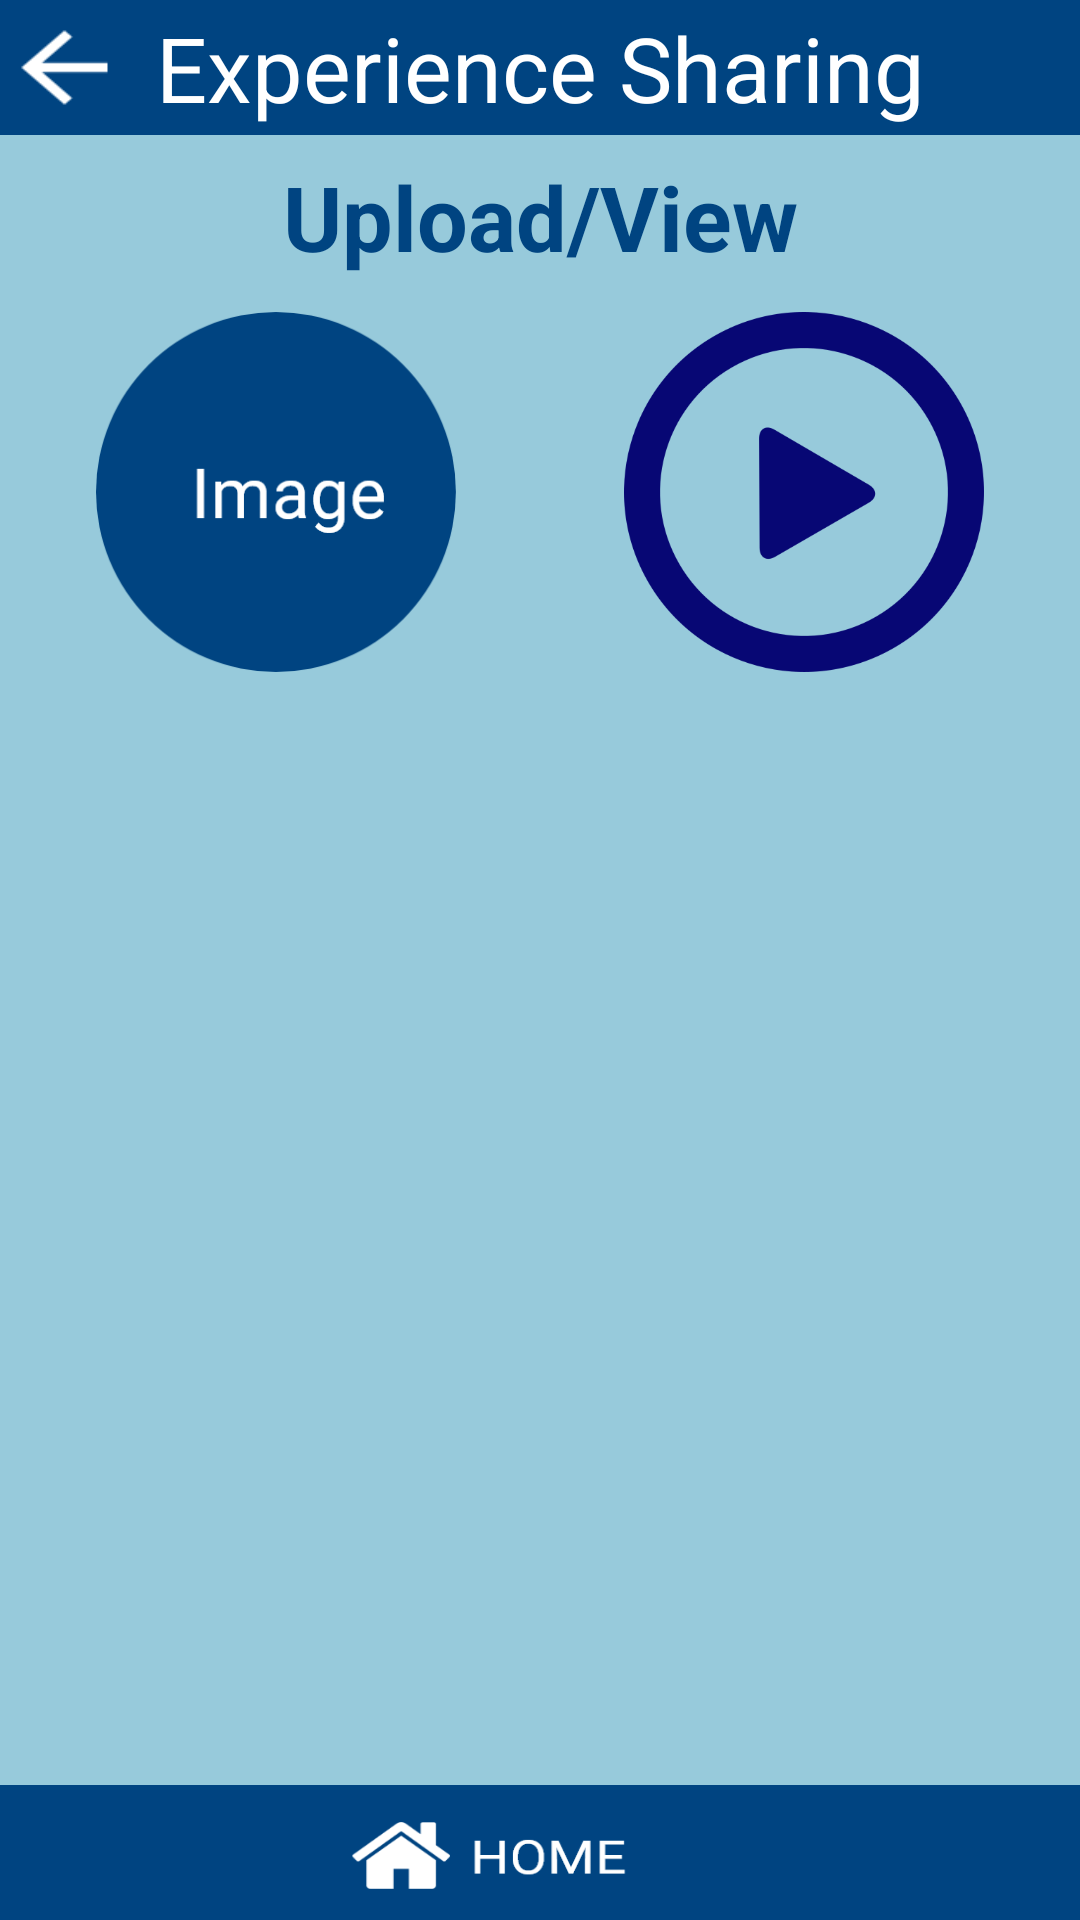

Named icons in this screenshot (1080×1920) and their bounding boxes, Rect(x1, y1, x2, y2):
back: Rect(21, 30, 108, 105)
vidoe: Rect(624, 312, 984, 672)
